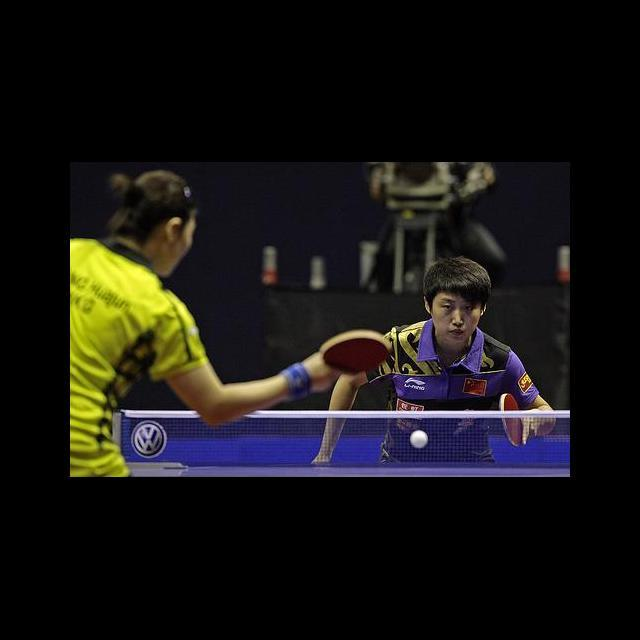ping-pong-ball: (410, 430, 428, 448)
